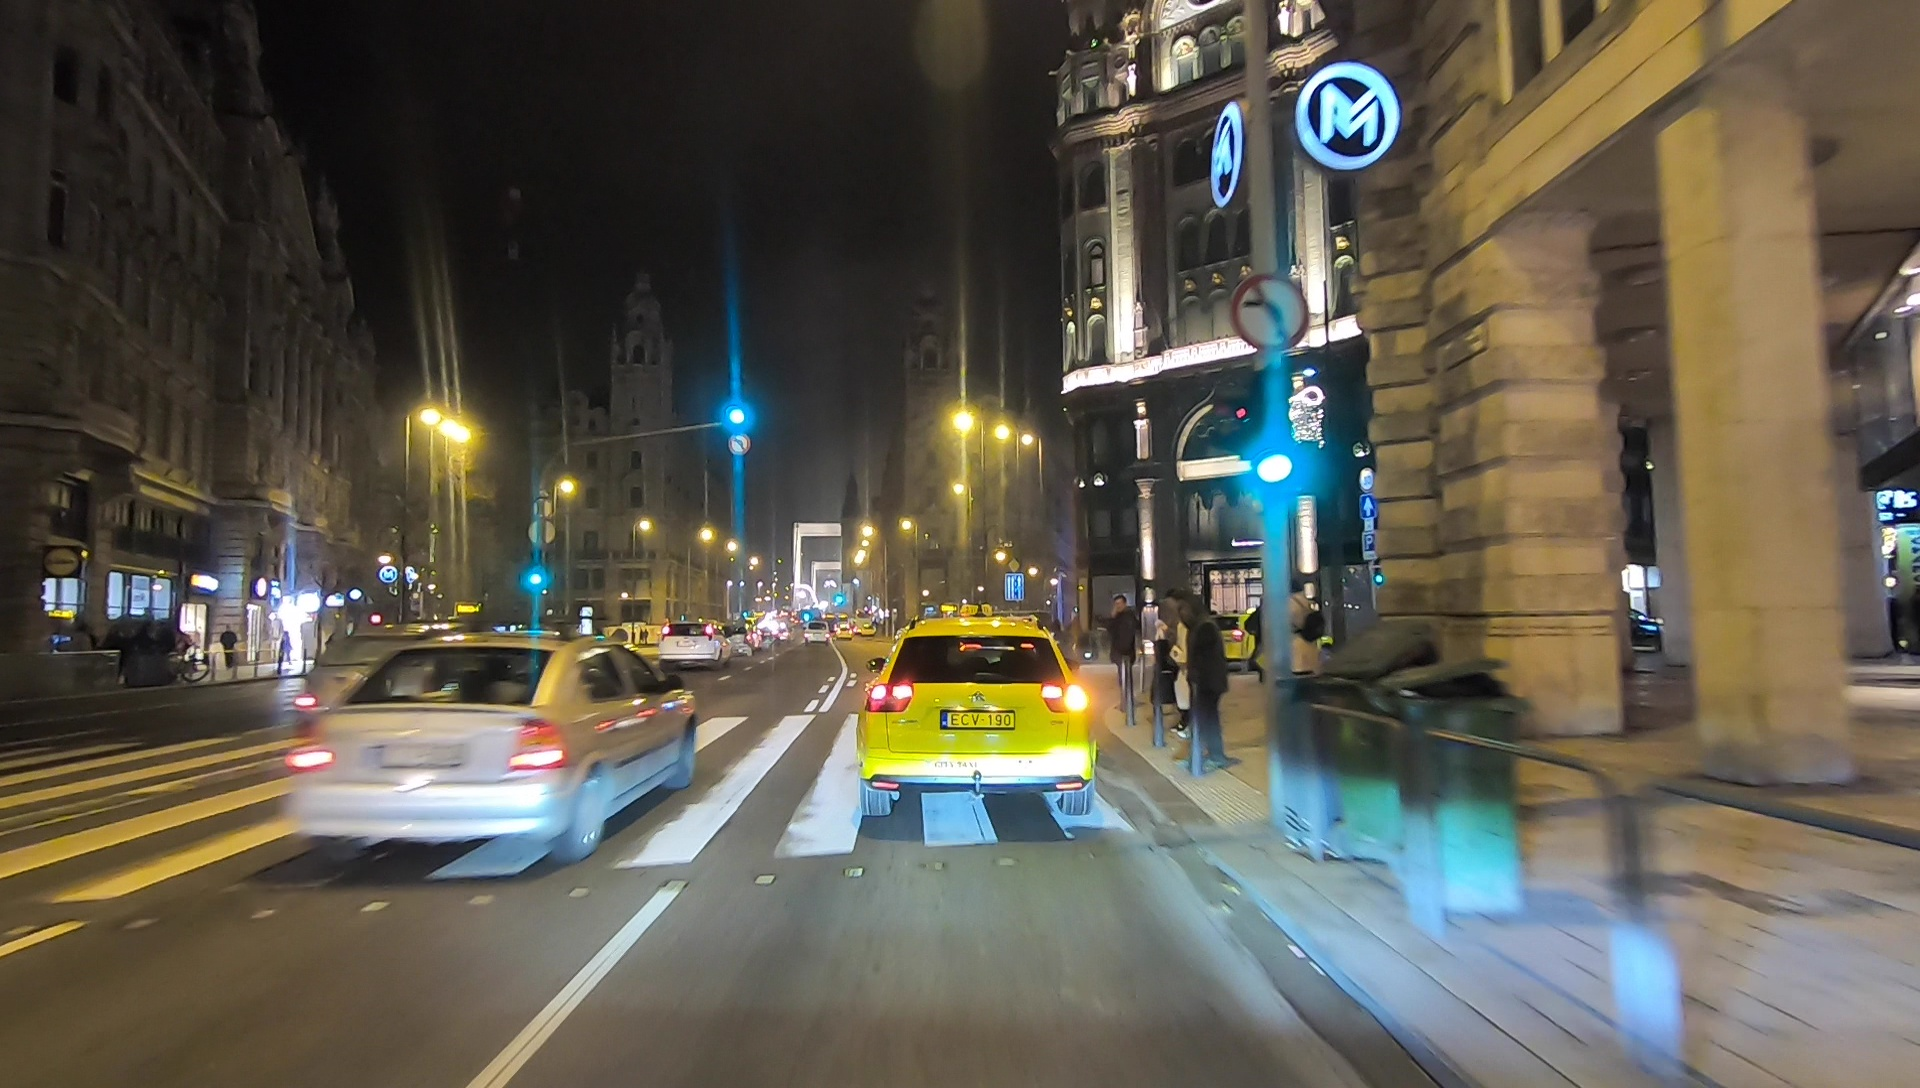person: (1178, 601, 1230, 770), (1282, 579, 1323, 721), (1161, 609, 1196, 740), (1110, 594, 1137, 704), (219, 624, 236, 668), (278, 630, 294, 672)
